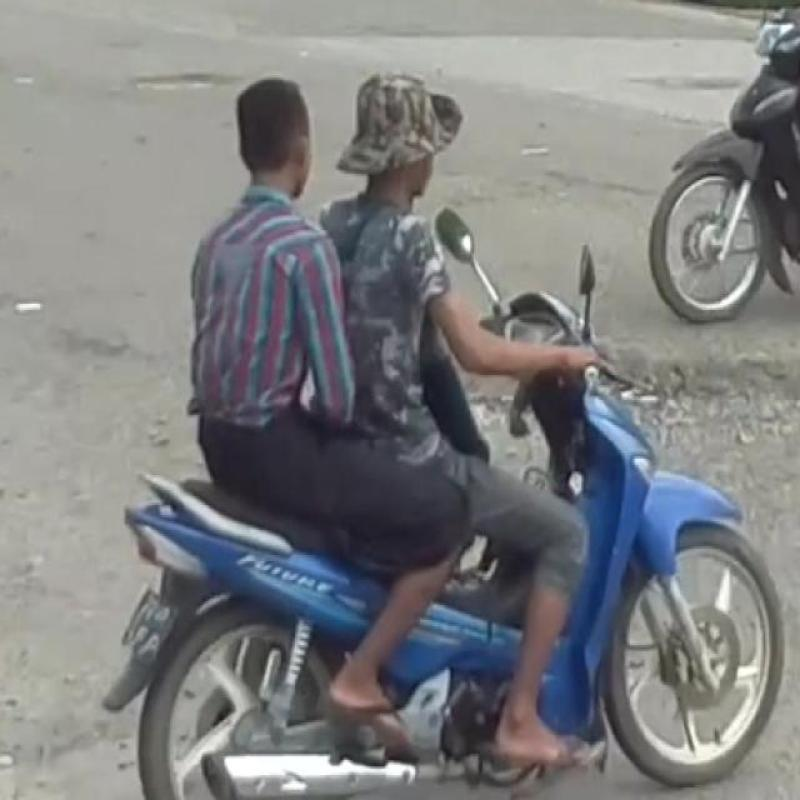nohelmet: (340, 56, 469, 195), (219, 68, 327, 194)
